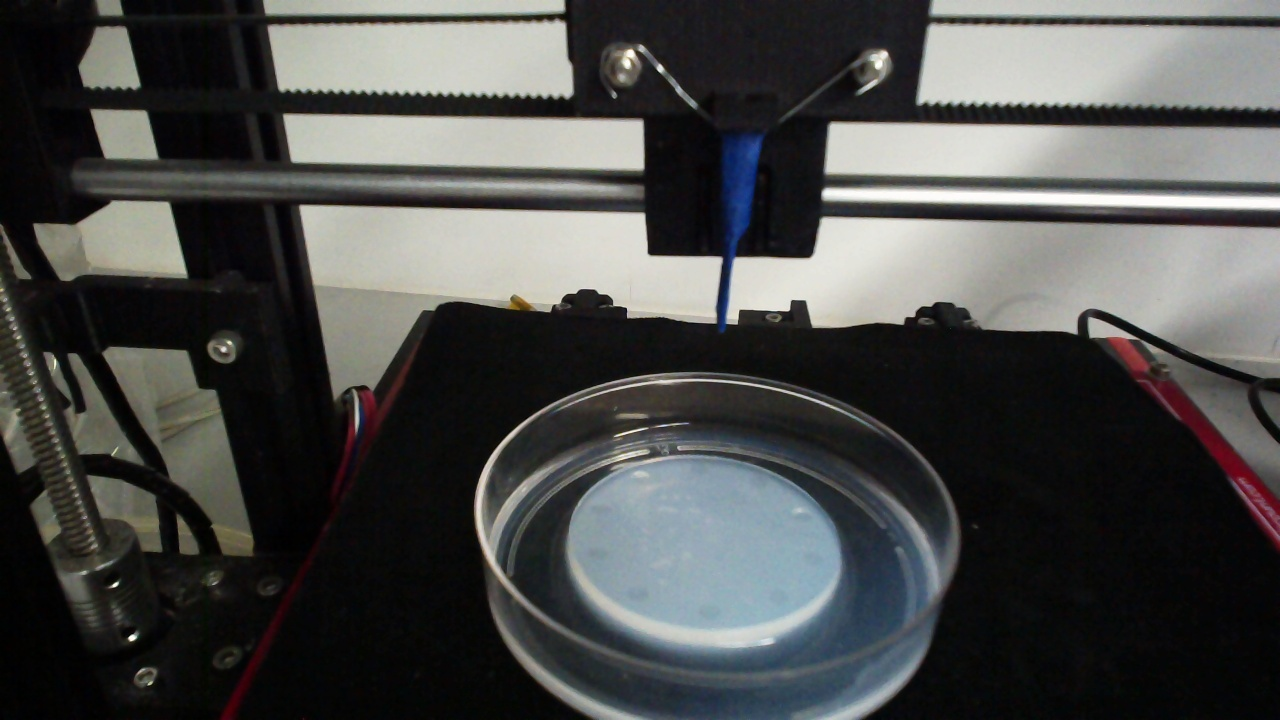groove: (801, 549, 826, 570), (788, 505, 815, 523), (765, 587, 788, 607), (699, 602, 723, 621), (623, 584, 647, 601), (585, 544, 608, 560), (746, 476, 769, 492), (588, 501, 612, 515), (689, 463, 709, 477), (630, 469, 651, 481)
needle: (718, 131, 760, 330)
